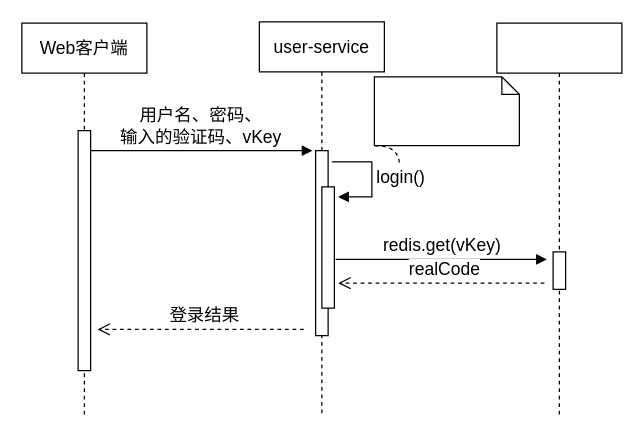
This 644x439 diagram has some shape labels left out. Here are the shapes that lost their labels. From the top down, the centre of each, then its label:
the point at 446,111: 获取real Code； 对比验证码； 密码校验；
the point at 559,219: redis
